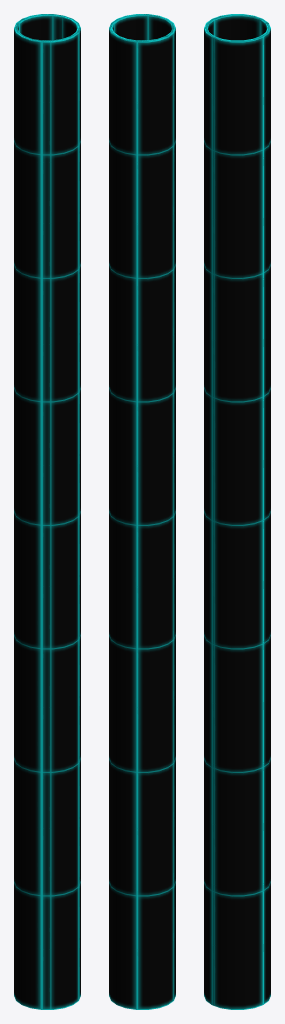
The model's file is tutTube.FBX.
3 views of the same model, side by side, from view 1: azimuth 30°, elevation 25°; view 2: azimuth 210°, elevation 25°; view 3: azimuth 270°, elevation 25° (orthographic).
Visible parts, largest first — view 1: Tube001; view 2: Tube001; view 3: Tube001.
Part boxes in pixels (x1,y1,x2,y2): Tube001: [14, 14, 80, 1009]; Tube001: [109, 14, 175, 1009]; Tube001: [204, 14, 270, 1009].
Bounding box in the file's own units: 77.54 × 1260 × 78.74.
Materials: 1 (1 with a texture image).
